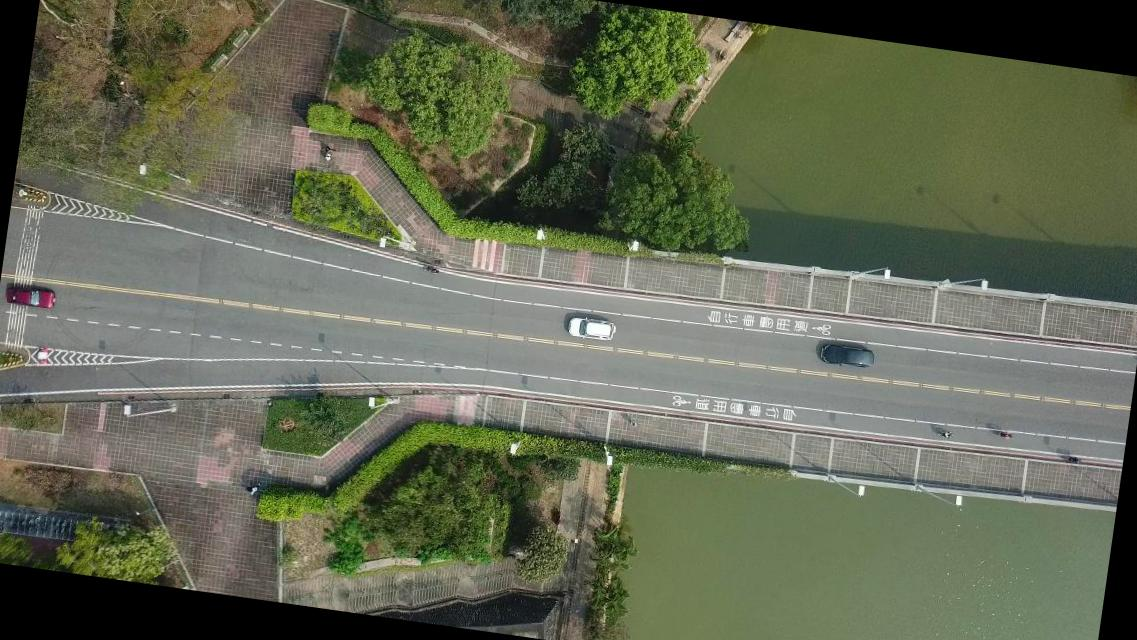vehicle: (818, 340, 876, 370), (566, 314, 616, 344), (5, 284, 56, 310)
